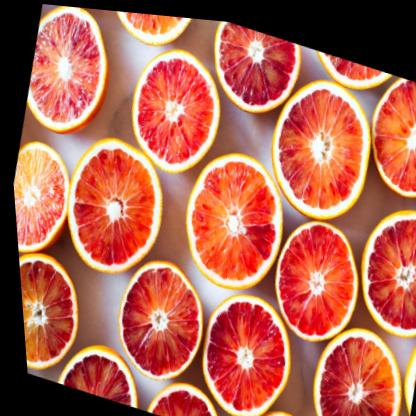orange: (246, 55, 386, 236), (44, 114, 182, 294), (162, 129, 297, 305), (110, 27, 240, 191), (256, 201, 373, 356), (177, 274, 304, 416), (98, 239, 213, 392)
